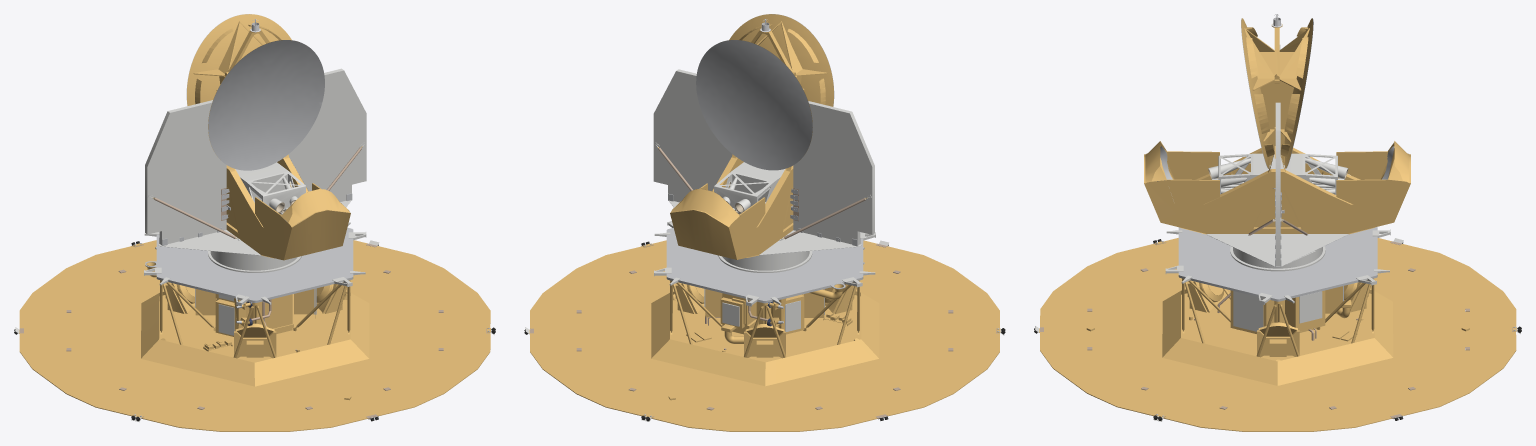
Rendered from wmap.glb.
The picture shows the model from 3 angles, left to right: view 1: azimuth 30°, elevation 25°; view 2: azimuth 150°, elevation 25°; view 3: azimuth 270°, elevation 25°; orthographic projection.
Visible parts, largest first — view 1: Layer_0; view 2: Layer_0; view 3: Layer_0.
Boxes of the visible parts, bbox=[...] form: Layer_0: bbox=[14, 14, 495, 431]; Layer_0: bbox=[524, 14, 1005, 431]; Layer_0: bbox=[1034, 14, 1521, 431].
Bounding box in the file's own units: 4.92 × 3.67 × 5.
Materials: 10 (1 with a texture image).
